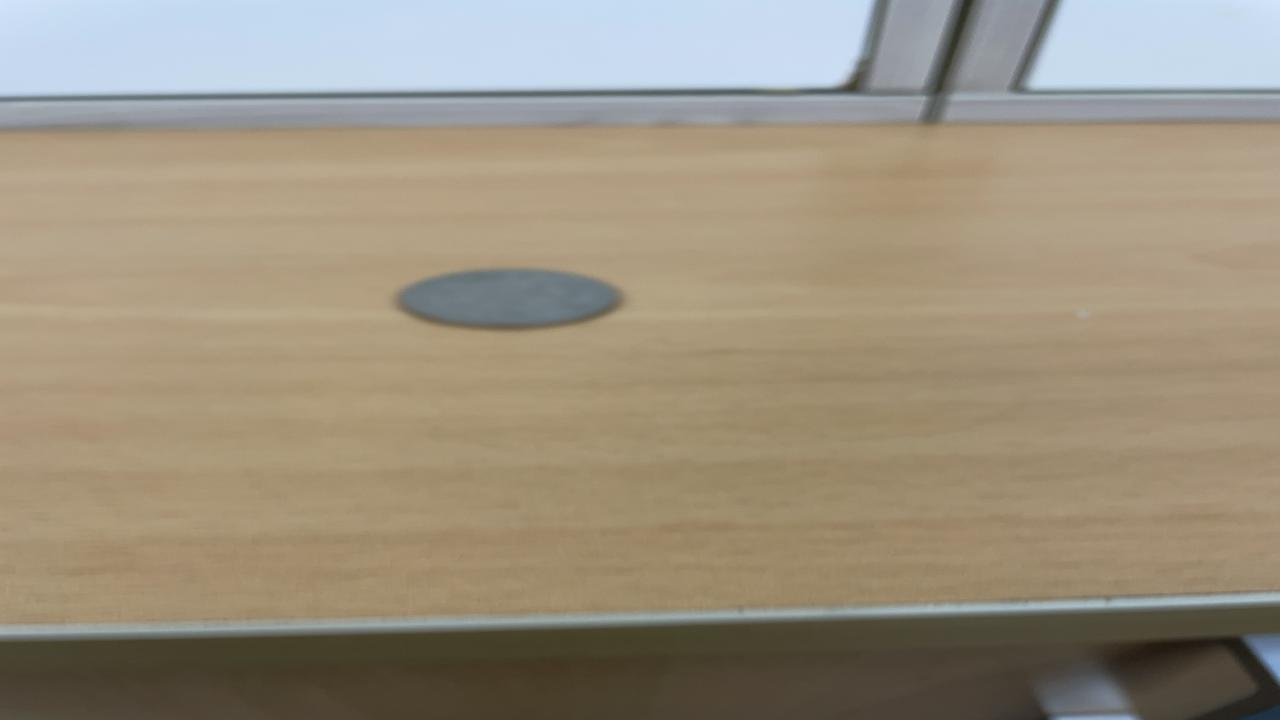coin: (388, 265, 631, 331)
